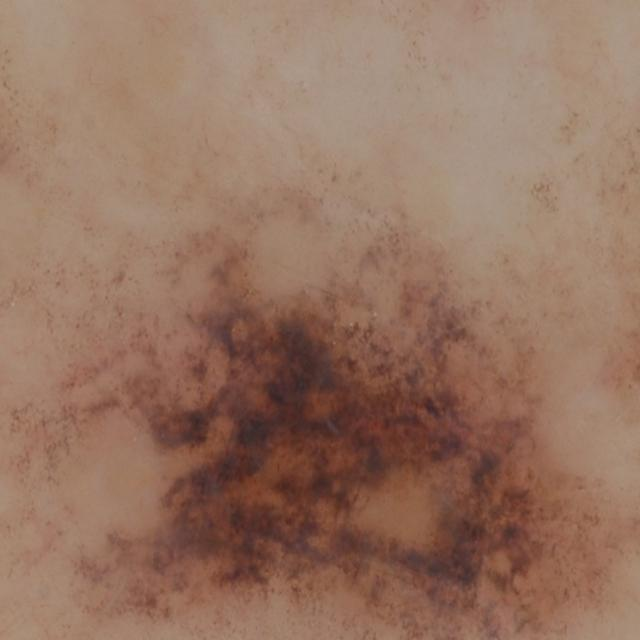Melanoma: (42, 203, 607, 640)
